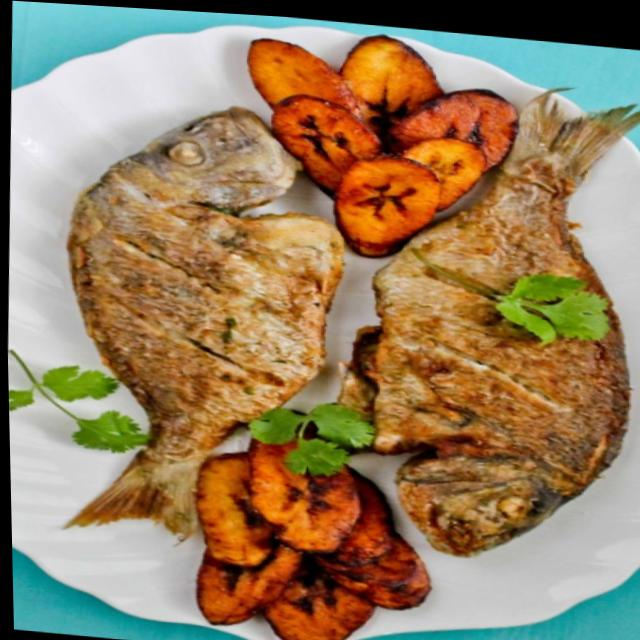FISH FRY: (339, 93, 640, 555), (66, 108, 341, 537), (199, 365, 210, 375)
